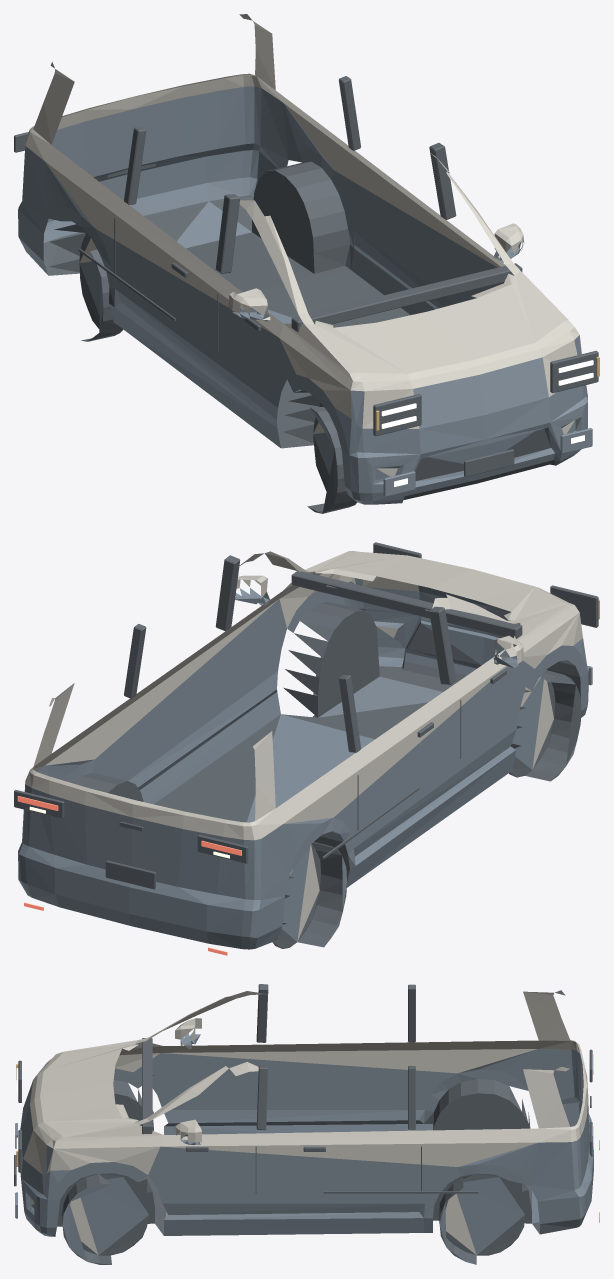
The model's file is Body.glb.
The picture shows the model from 3 angles, top to bottom: view 1: azimuth 30°, elevation 25°; view 2: azimuth 150°, elevation 25°; view 3: azimuth 270°, elevation 25°; orthographic projection. The views are drawn at different scales.
Parts seen in each view (by area): view 1: Body_SlateBlue, Body_WarmIvory, Body_CharcoalTrim, Body_HeadlampCream; view 2: Body_SlateBlue, Body_CharcoalTrim, Body_WarmIvory, Body_TaillampRed; view 3: Body_SlateBlue, Body_WarmIvory, Body_CharcoalTrim.
Part boxes in pixels (bbox=[...]): Body_SlateBlue: bbox=[18, 62, 592, 504]; Body_WarmIvory: bbox=[25, 14, 581, 476]; Body_CharcoalTrim: bbox=[14, 76, 598, 513]; Body_HeadlampCream: bbox=[381, 360, 593, 486]; Body_SlateBlue: bbox=[18, 578, 592, 949]; Body_CharcoalTrim: bbox=[14, 542, 598, 948]; Body_WarmIvory: bbox=[25, 551, 582, 941]; Body_TaillampRed: bbox=[17, 796, 241, 955]; Body_SlateBlue: bbox=[15, 990, 593, 1261]; Body_WarmIvory: bbox=[23, 991, 588, 1254]; Body_CharcoalTrim: bbox=[14, 984, 592, 1264].
Bounding box in the file's own units: 2.52 × 1.99 × 5.49.
